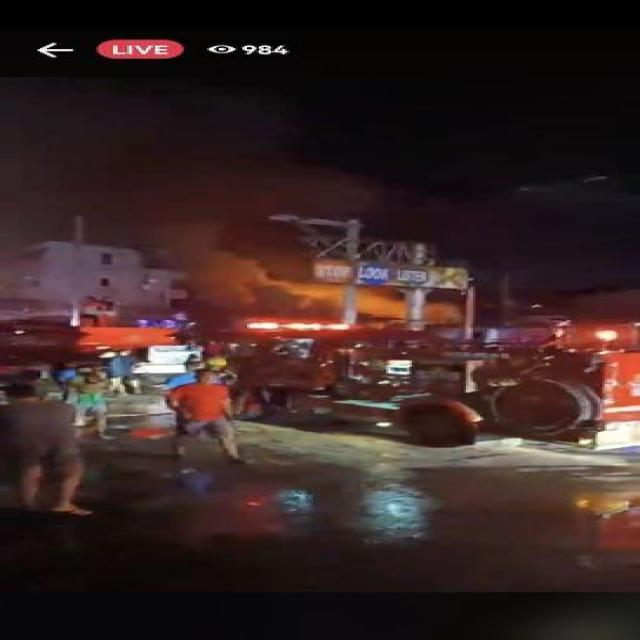Smoke: (174, 241, 466, 326)
